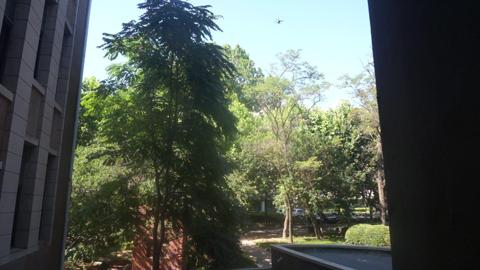UAV: (274, 18, 284, 24)
